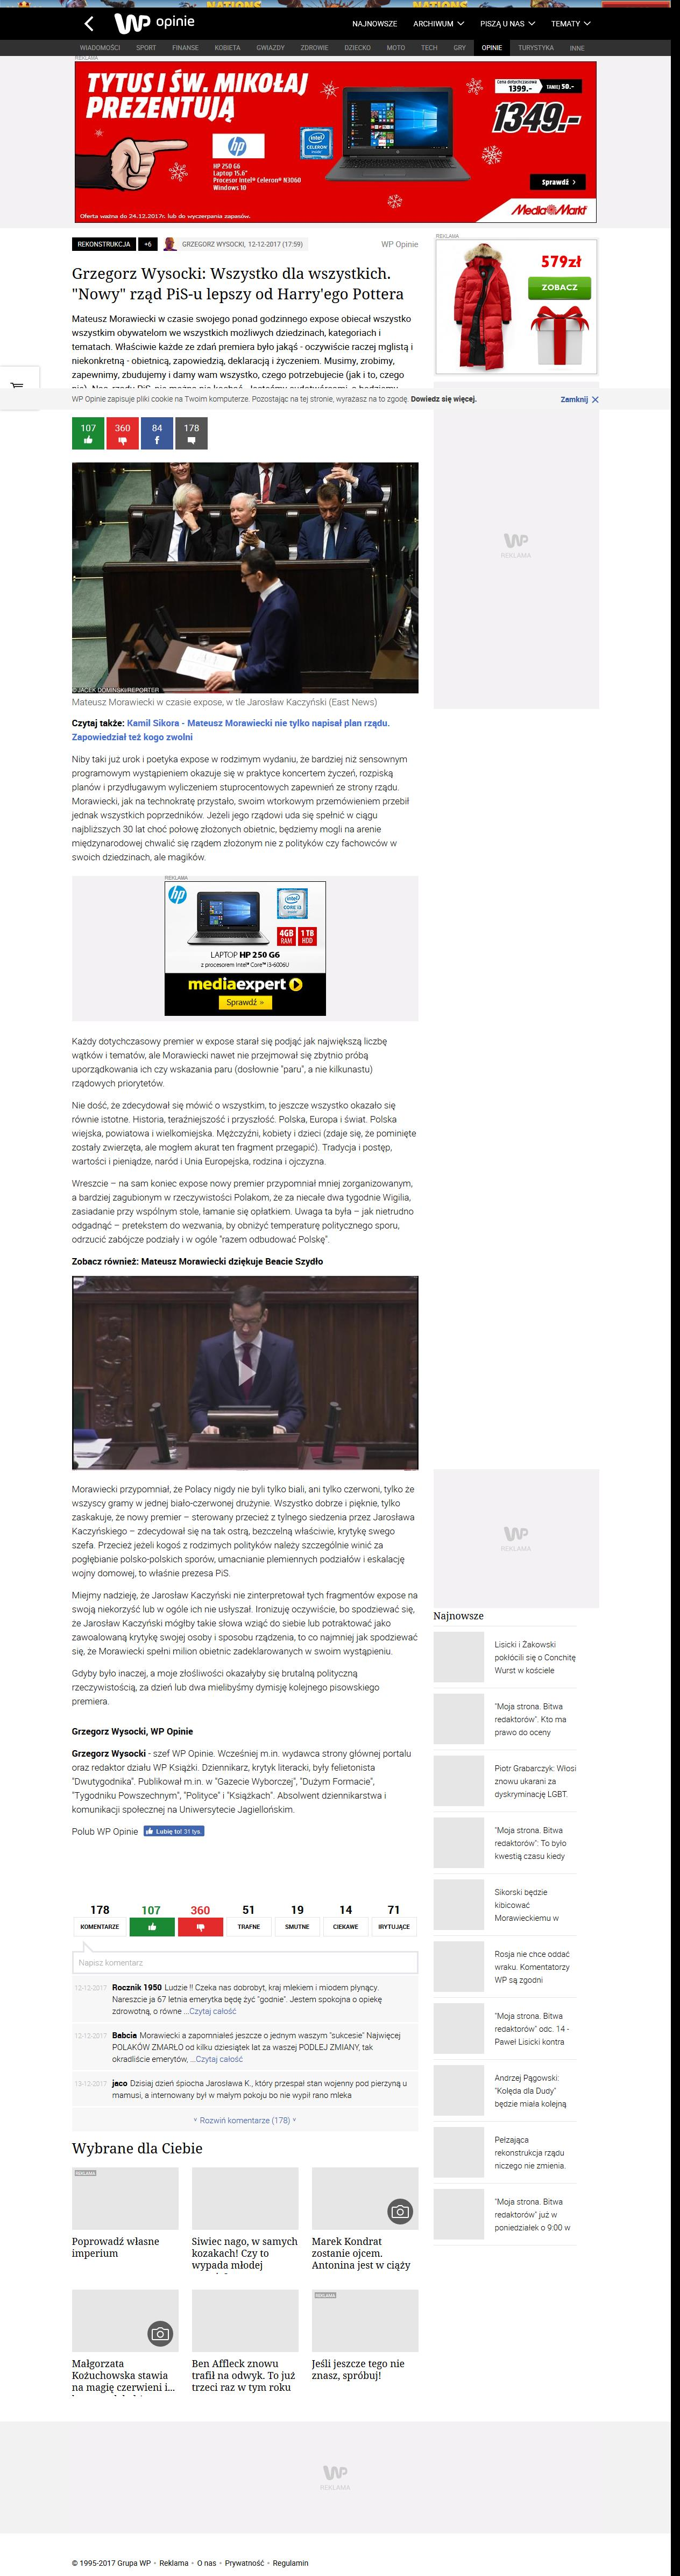title: (71, 266, 404, 304)
